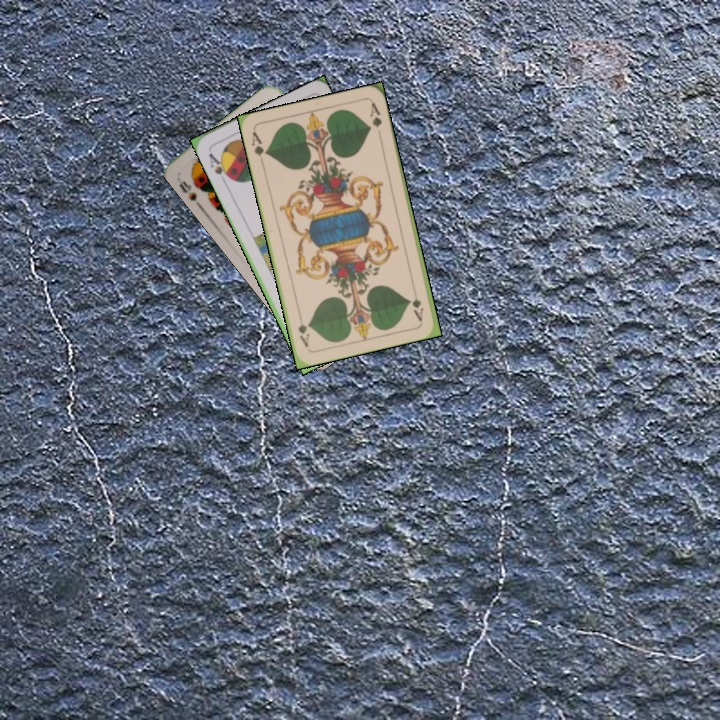GA: (248, 128, 270, 167), (409, 294, 426, 324)
S8: (175, 176, 199, 204)
SA: (205, 149, 234, 185)
